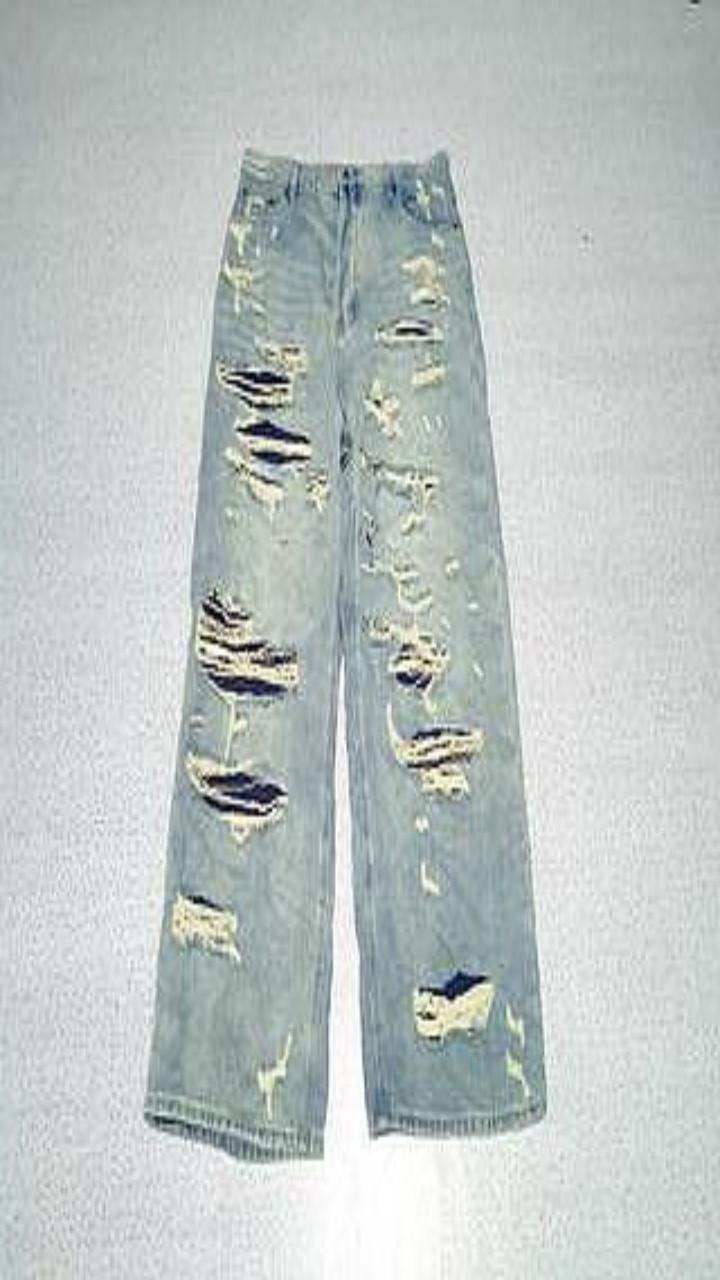Jeans: (143, 148, 545, 1159)
